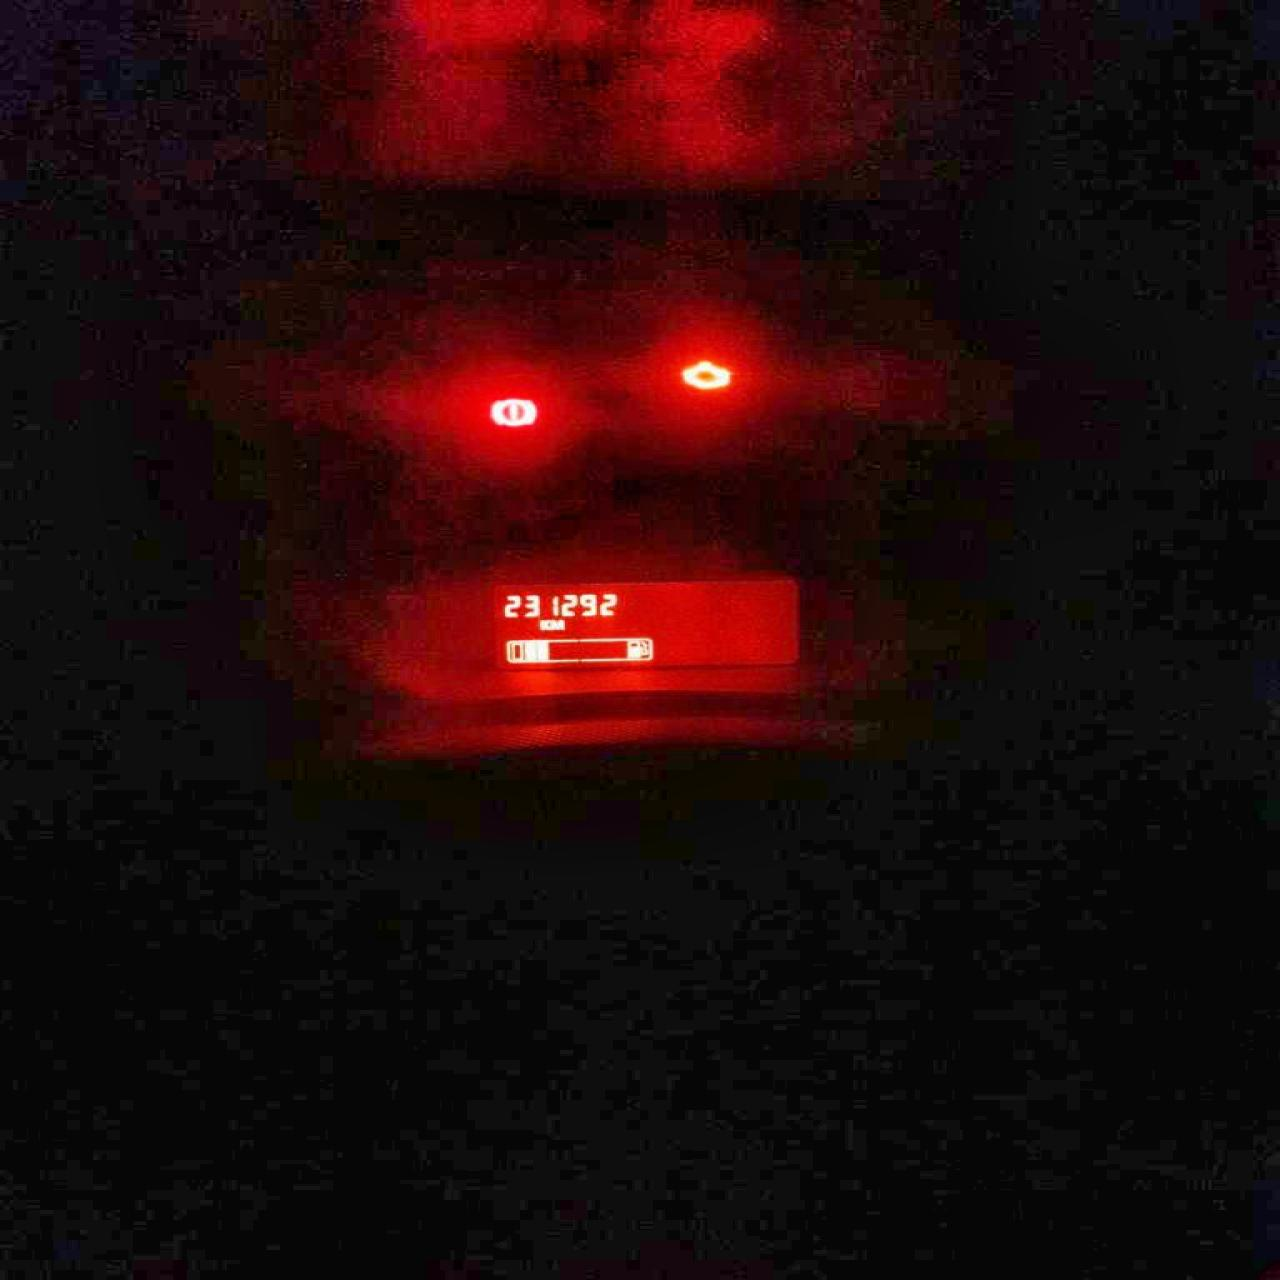1: (550, 594, 557, 617)
2: (598, 591, 617, 615), (560, 592, 577, 617), (504, 593, 518, 618)
3: (524, 592, 538, 617)
9: (578, 592, 594, 617)
X: (549, 618, 564, 631), (538, 618, 549, 631)
odometer: (483, 574, 809, 675)
